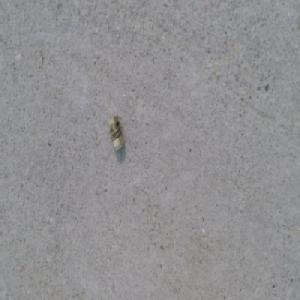BoltNutSet: (108, 117, 124, 153)
